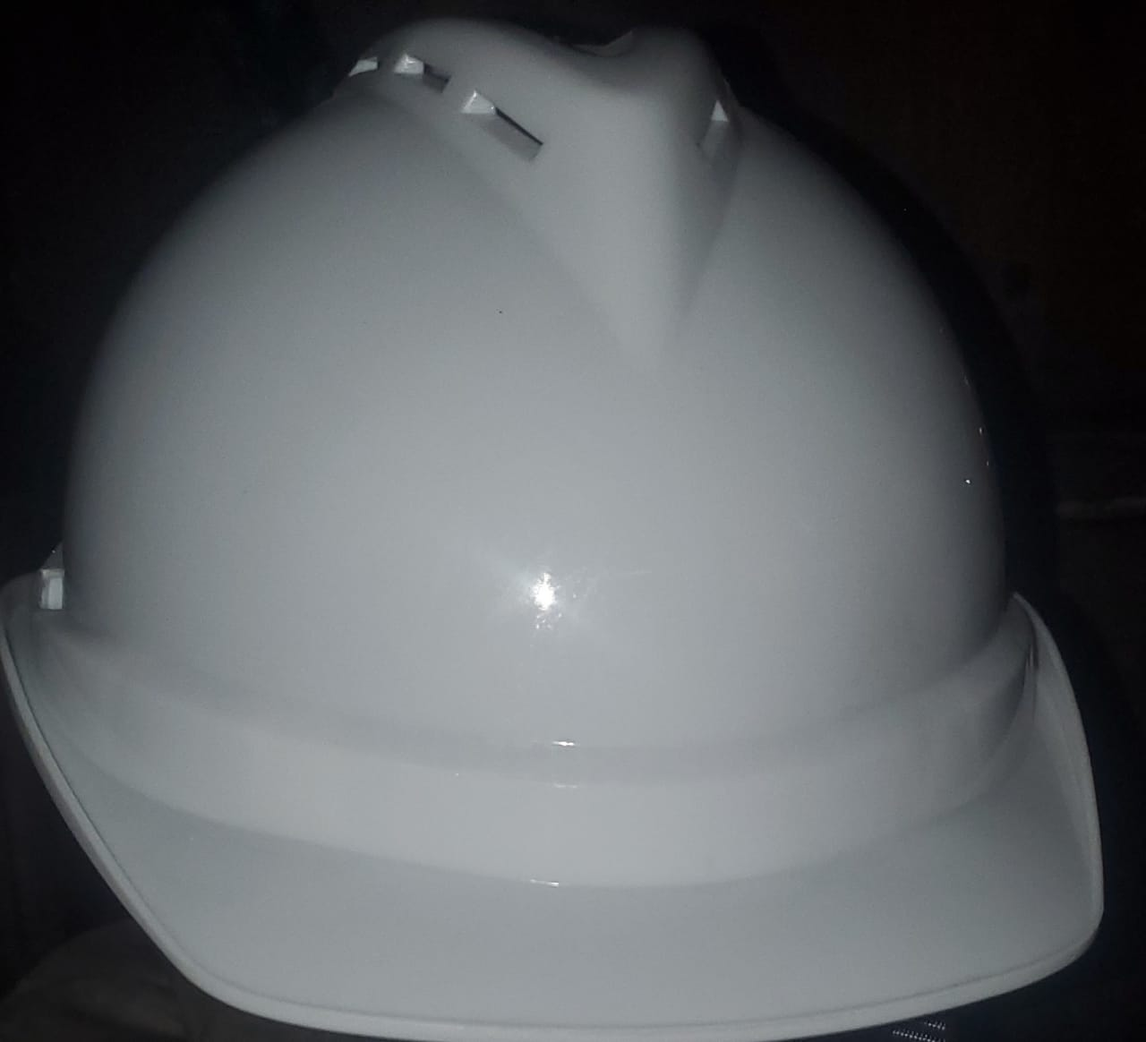helment: (22, 25, 1146, 1032)
